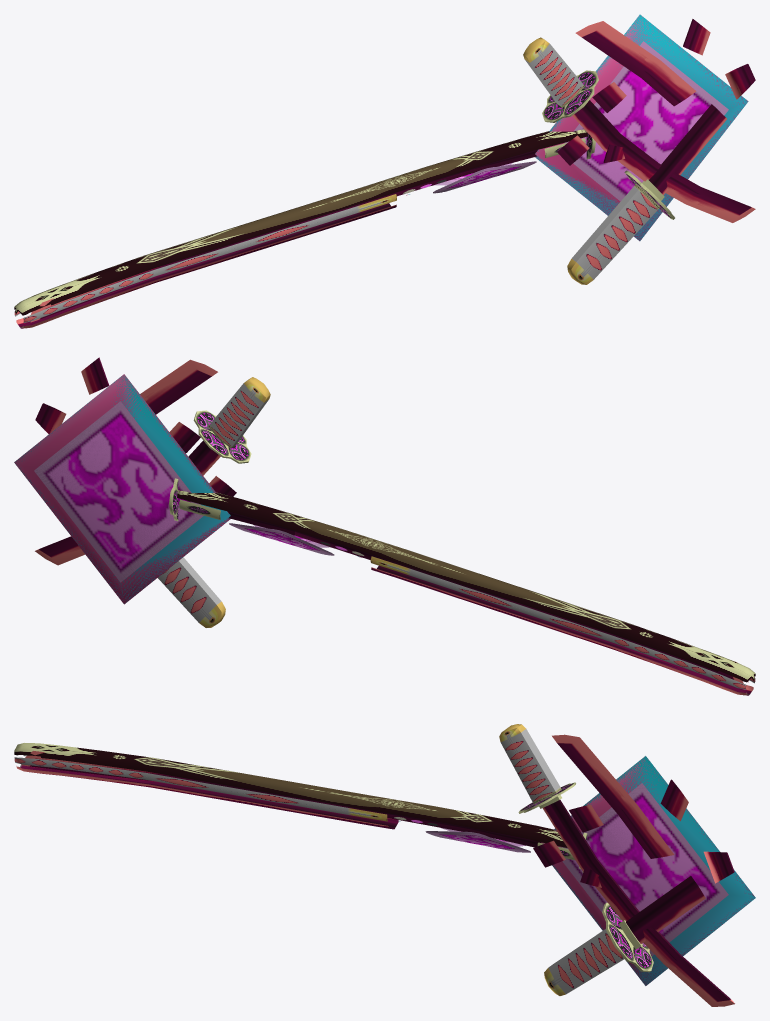
Rendered from clothesline.obj.
3 renders of one model, top to bottom at view 1: azimuth 30°, elevation 25°; view 2: azimuth 150°, elevation 25°; view 3: azimuth 330°, elevation 25°, orthographic.
Visible parts, largest first — view 1: item_damaged, effect, item_blade, item_back, blade, blade_fragment; view 2: item_damaged, item_back, effect, item_blade, blade, blade_fragment; view 3: item_damaged, effect, item_back, item_blade, blade, blade_fragment.
Boxes of the visible parts, left/top/right/bottom form: item_damaged: left=535, top=15, right=755, bottom=284; effect: left=14, top=129, right=587, bottom=328; item_blade: left=523, top=37, right=755, bottom=222; item_back: left=535, top=14, right=748, bottom=240; blade: left=31, top=133, right=595, bottom=314; blade_fragment: left=30, top=242, right=237, bottom=322; item_damaged: left=14, top=357, right=236, bottom=627; item_back: left=14, top=374, right=230, bottom=604; effect: left=177, top=490, right=755, bottom=695; item_blade: left=35, top=377, right=270, bottom=565; blade: left=169, top=478, right=743, bottom=683; blade_fragment: left=295, top=531, right=748, bottom=682; item_damaged: left=533, top=734, right=754, bottom=995; effect: left=14, top=743, right=574, bottom=860; item_back: left=552, top=756, right=755, bottom=985; item_blade: left=499, top=724, right=734, bottom=1006; blade: left=237, top=787, right=587, bottom=872; blade_fragment: left=21, top=751, right=237, bottom=788.
Bounding box in the file's own units: 476 × 161 × 41.5.
